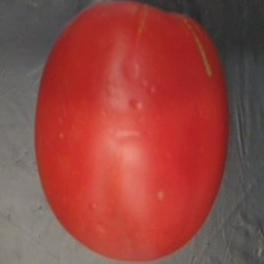unripe: (29, 1, 236, 264)
